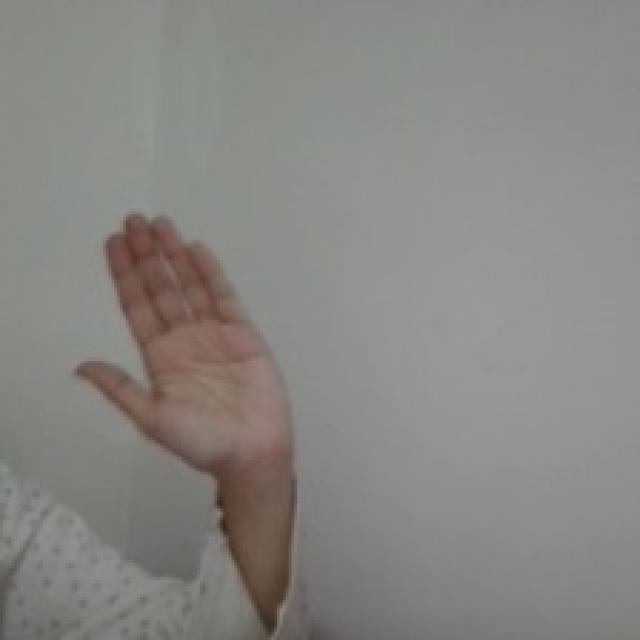Hello: (68, 206, 296, 471)
